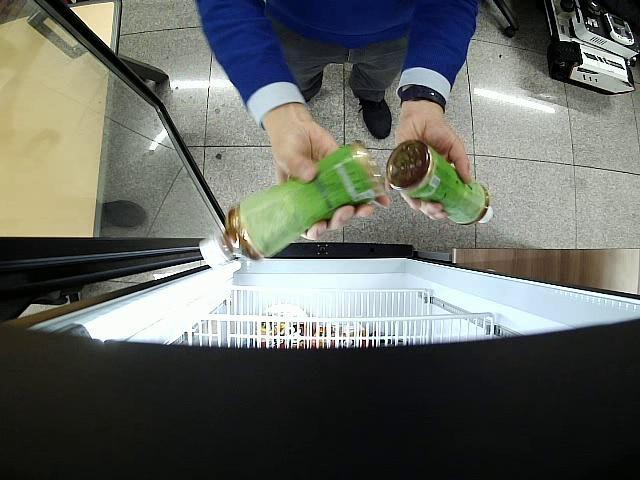19_17cha: (200, 141, 384, 268), (386, 140, 494, 225)
